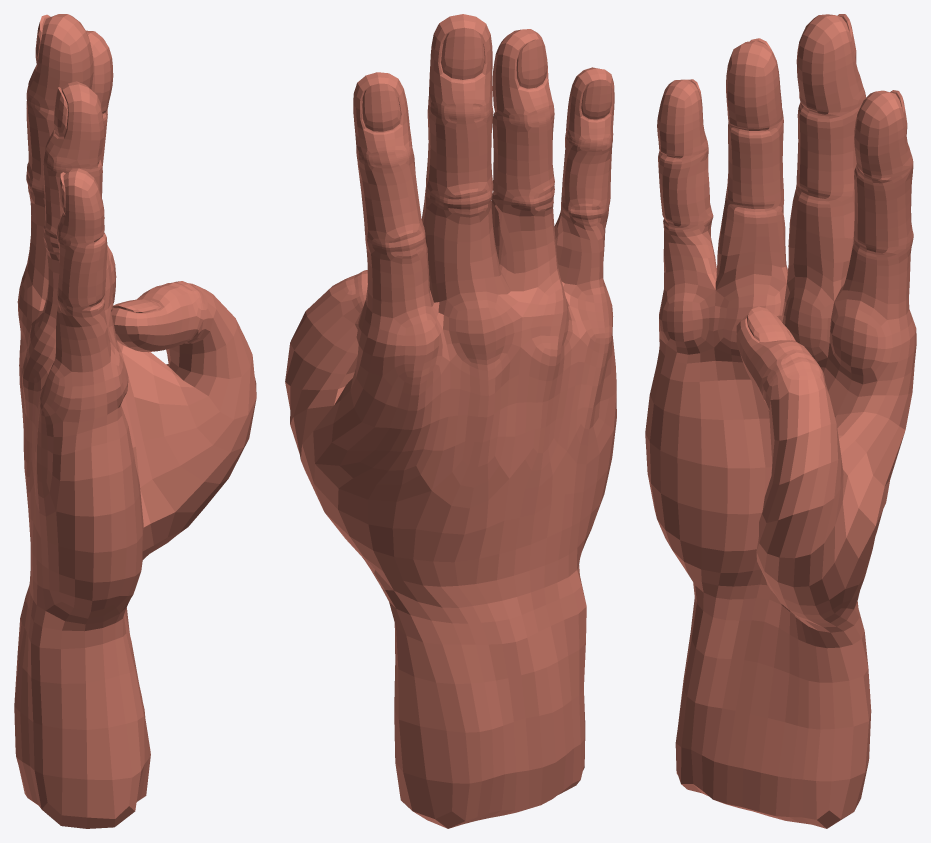
The picture shows the model from 3 angles, left to right: view 1: azimuth 30°, elevation 25°; view 2: azimuth 150°, elevation 25°; view 3: azimuth 270°, elevation 25°; orthographic projection. The views are drawn at different scales.
Parts seen in each view (by area): view 1: ZBrushPolyMesh3D; view 2: ZBrushPolyMesh3D; view 3: ZBrushPolyMesh3D.
Part boxes in pixels (x1=…): ZBrushPolyMesh3D: x1=14, y1=14, x2=256, y2=828; ZBrushPolyMesh3D: x1=285, y1=14, x2=616, y2=828; ZBrushPolyMesh3D: x1=645, y1=14, x2=916, y2=828.
Bounding box in the file's own units: 1.9 × 5.42 × 1.69.
